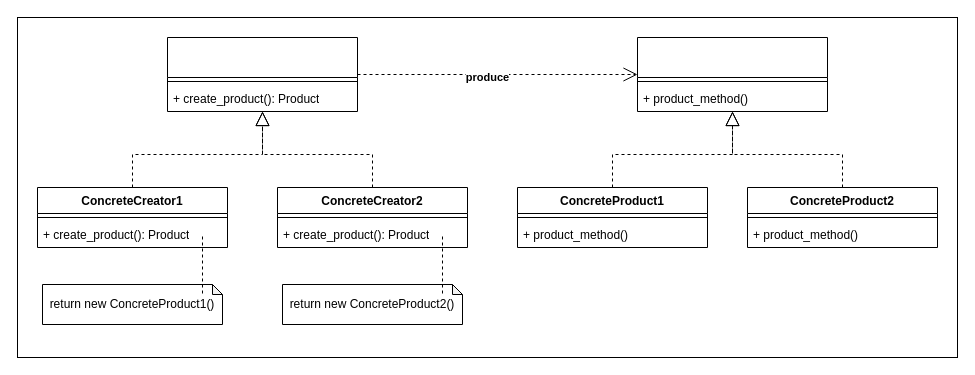
Some shapes in this 975 by 375 pixel diagram are drawn without their labels. Here are the shapes that lost their labels. From the top down, the box of each, then its label:
(166, 36, 358, 112): <<interface>> Creator
(636, 36, 828, 112): <<interface>> Product
